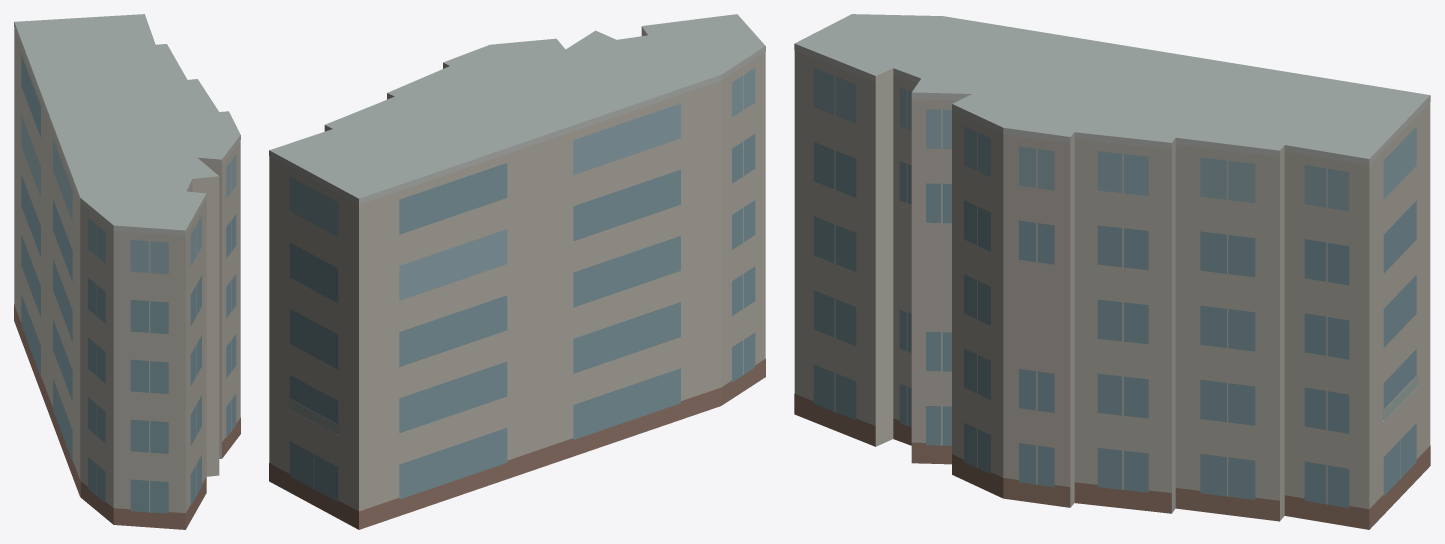
The model's file is survey-upis-32723980.glb.
The picture shows the model from 3 angles, left to right: view 1: azimuth 30°, elevation 25°; view 2: azimuth 150°, elevation 25°; view 3: azimuth 270°, elevation 25°; orthographic projection. The views are drawn at different scales.
Visible parts, largest first — view 1: survey-upis-32723980.tmp; view 2: survey-upis-32723980.tmp; view 3: survey-upis-32723980.tmp.
Part boxes in pixels (x1,y1,x2,y2): survey-upis-32723980.tmp: (14,14,240,529); survey-upis-32723980.tmp: (269,14,765,529); survey-upis-32723980.tmp: (794,14,1430,529).
Bounding box in the file's own units: 11.42 × 13.6 × 21.15.
